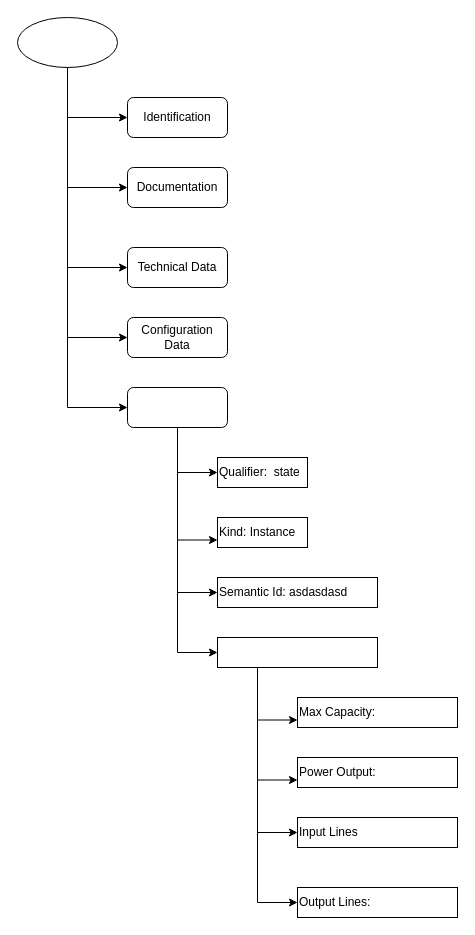
Some shapes in this 475 by 935 pixel diagram are drawn without their labels. The shapes that lost their labels are listed below. From the top down, each one's centre as x and y in pixels, then its label:
At [67,42]: "Power Grid".
At [177,407]: "Operation Data".
At [297,652]: "SubModelElements:".
